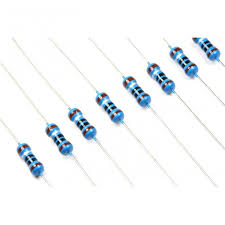resistor: (13, 135, 49, 186), (66, 103, 103, 148), (43, 117, 78, 162), (93, 89, 129, 130), (169, 45, 206, 84), (143, 57, 179, 97), (120, 73, 154, 110)
